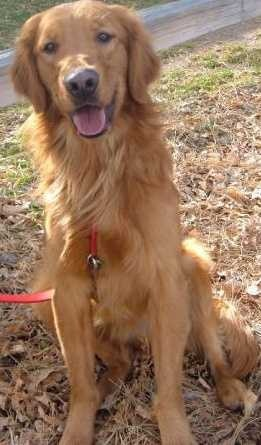dog: (15, 4, 234, 354)
